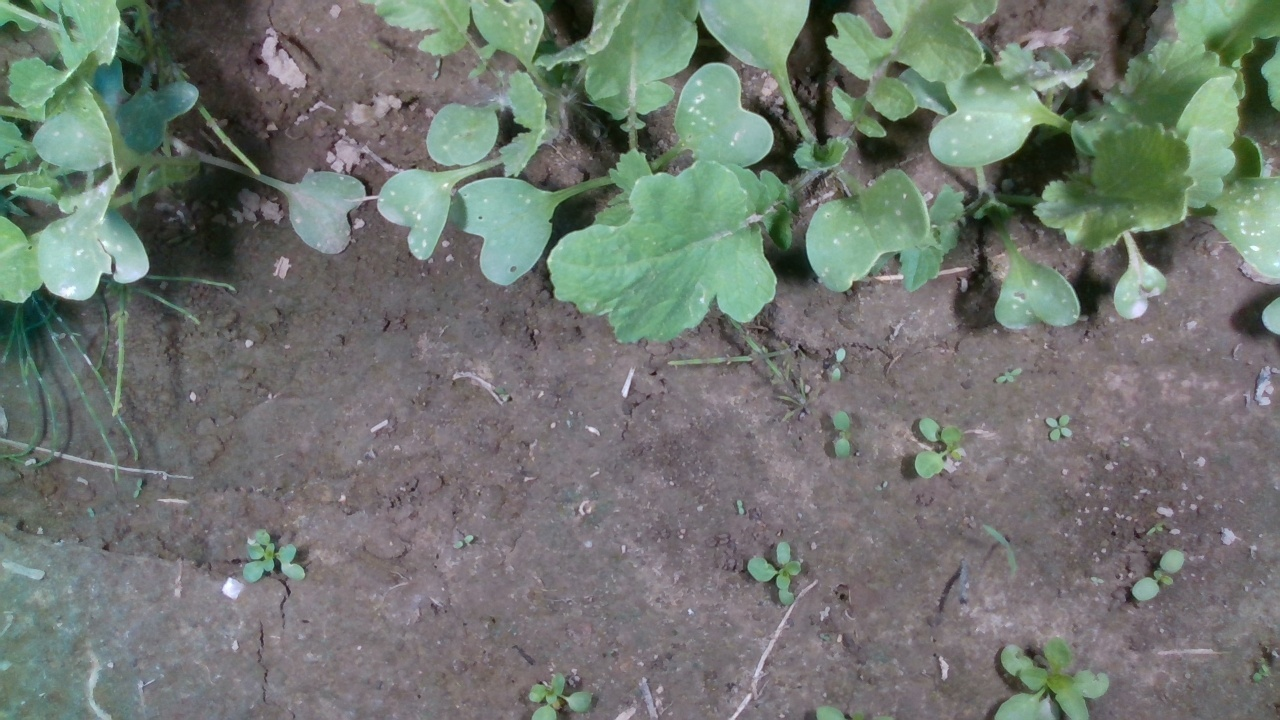weed: (1041, 412, 1077, 441), (992, 366, 1024, 387)
